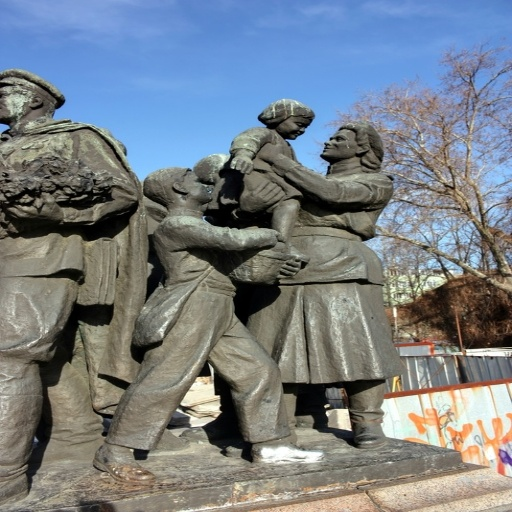hand: (0, 189, 69, 227), (226, 222, 291, 256), (236, 178, 290, 213), (226, 151, 258, 177), (271, 256, 304, 280), (254, 139, 281, 163)
